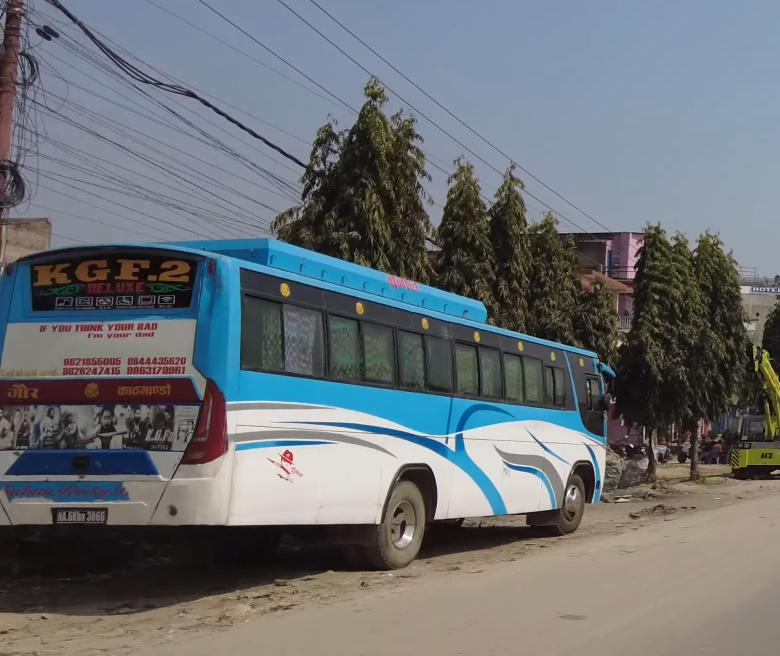bus: (0, 212, 617, 575)
